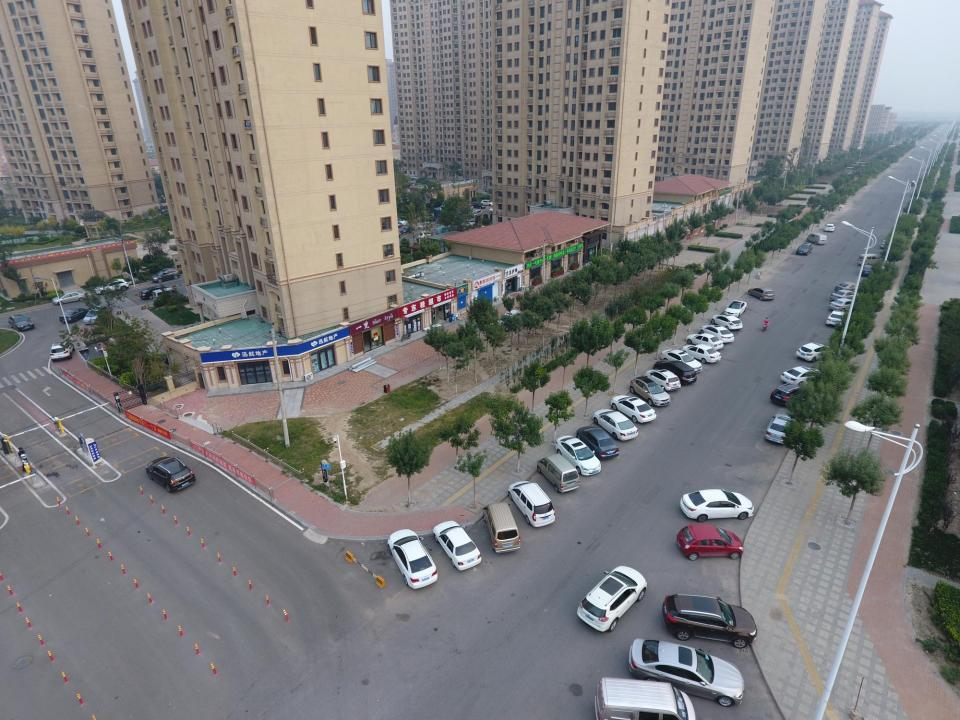car: (628, 638, 745, 706), (662, 594, 757, 648), (577, 566, 647, 632), (388, 529, 438, 589), (680, 488, 754, 522), (677, 524, 744, 560), (433, 521, 481, 570), (508, 481, 555, 527), (146, 456, 196, 493), (555, 436, 601, 476), (592, 409, 638, 441), (577, 426, 619, 459), (610, 395, 656, 422), (629, 376, 670, 406), (770, 383, 818, 407), (653, 360, 697, 384), (780, 366, 826, 388), (660, 349, 702, 373), (765, 413, 797, 444), (680, 344, 722, 364), (645, 369, 681, 392), (795, 342, 836, 362), (686, 333, 724, 351), (699, 325, 734, 344), (51, 291, 89, 305), (94, 280, 128, 295), (50, 341, 74, 362), (711, 315, 742, 331), (8, 314, 35, 332), (829, 298, 861, 313), (496, 310, 522, 328), (59, 308, 91, 322), (151, 268, 180, 283), (139, 286, 171, 299), (830, 289, 862, 302), (724, 300, 747, 318), (83, 306, 105, 324), (826, 310, 846, 328), (835, 282, 865, 294), (748, 288, 775, 300), (796, 243, 813, 255), (860, 265, 876, 276), (434, 226, 452, 234), (463, 219, 480, 227), (418, 231, 434, 239), (450, 222, 466, 230), (388, 232, 402, 240), (880, 239, 892, 248), (400, 226, 415, 233), (418, 222, 432, 229), (824, 224, 836, 232), (396, 218, 408, 226), (390, 220, 402, 228), (470, 202, 486, 208), (462, 204, 474, 212), (480, 200, 494, 206), (470, 210, 482, 217), (408, 174, 420, 179), (489, 207, 497, 213), (415, 178, 426, 182)
van: (595, 677, 695, 720), (482, 502, 521, 553), (537, 454, 580, 493), (152, 288, 184, 304), (857, 253, 883, 266), (806, 233, 827, 244)
